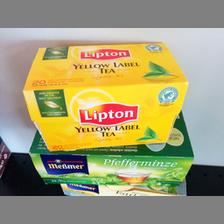Tee: (22, 40, 187, 152)
